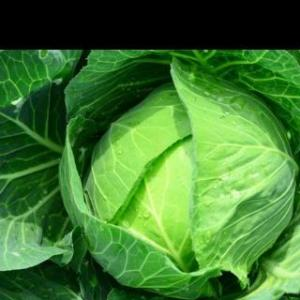cabbage: (80, 75, 294, 297)
